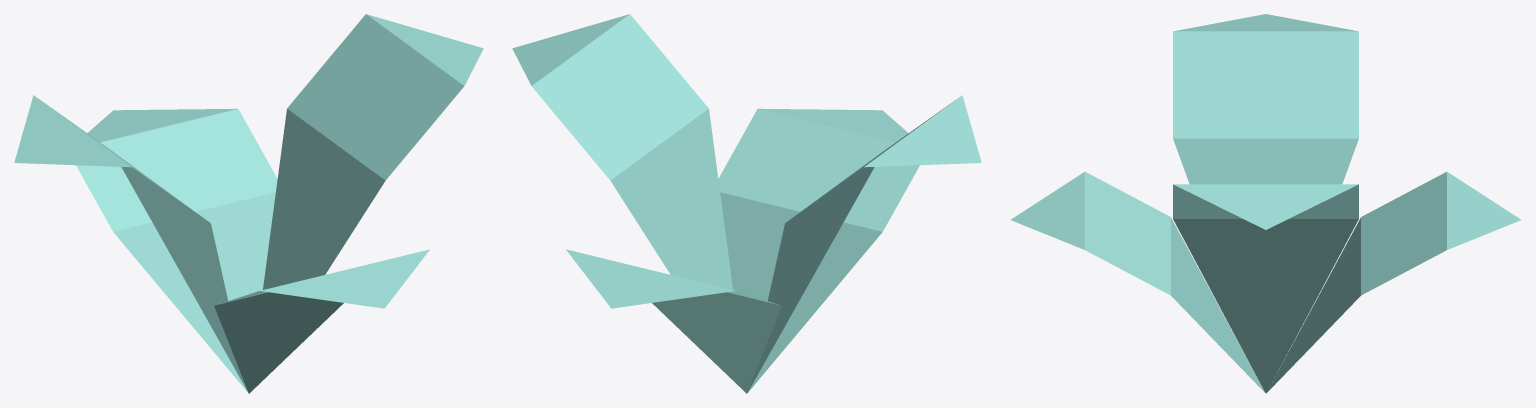
Rendered from plant_bush.glb.
The picture shows the model from 3 angles, left to right: view 1: azimuth 30°, elevation 25°; view 2: azimuth 150°, elevation 25°; view 3: azimuth 270°, elevation 25°; orthographic projection. The views are drawn at different scales.
Visible parts, largest first — view 1: plant_bush; view 2: plant_bush; view 3: plant_bush.
Boxes of the visible parts, box(x1,y1,x2,y2) form: plant_bush: box(14, 14, 483, 393); plant_bush: box(512, 14, 981, 393); plant_bush: box(1010, 14, 1521, 393).
Size of the model in its own units: 0.396 by 0.2444 by 0.396.
